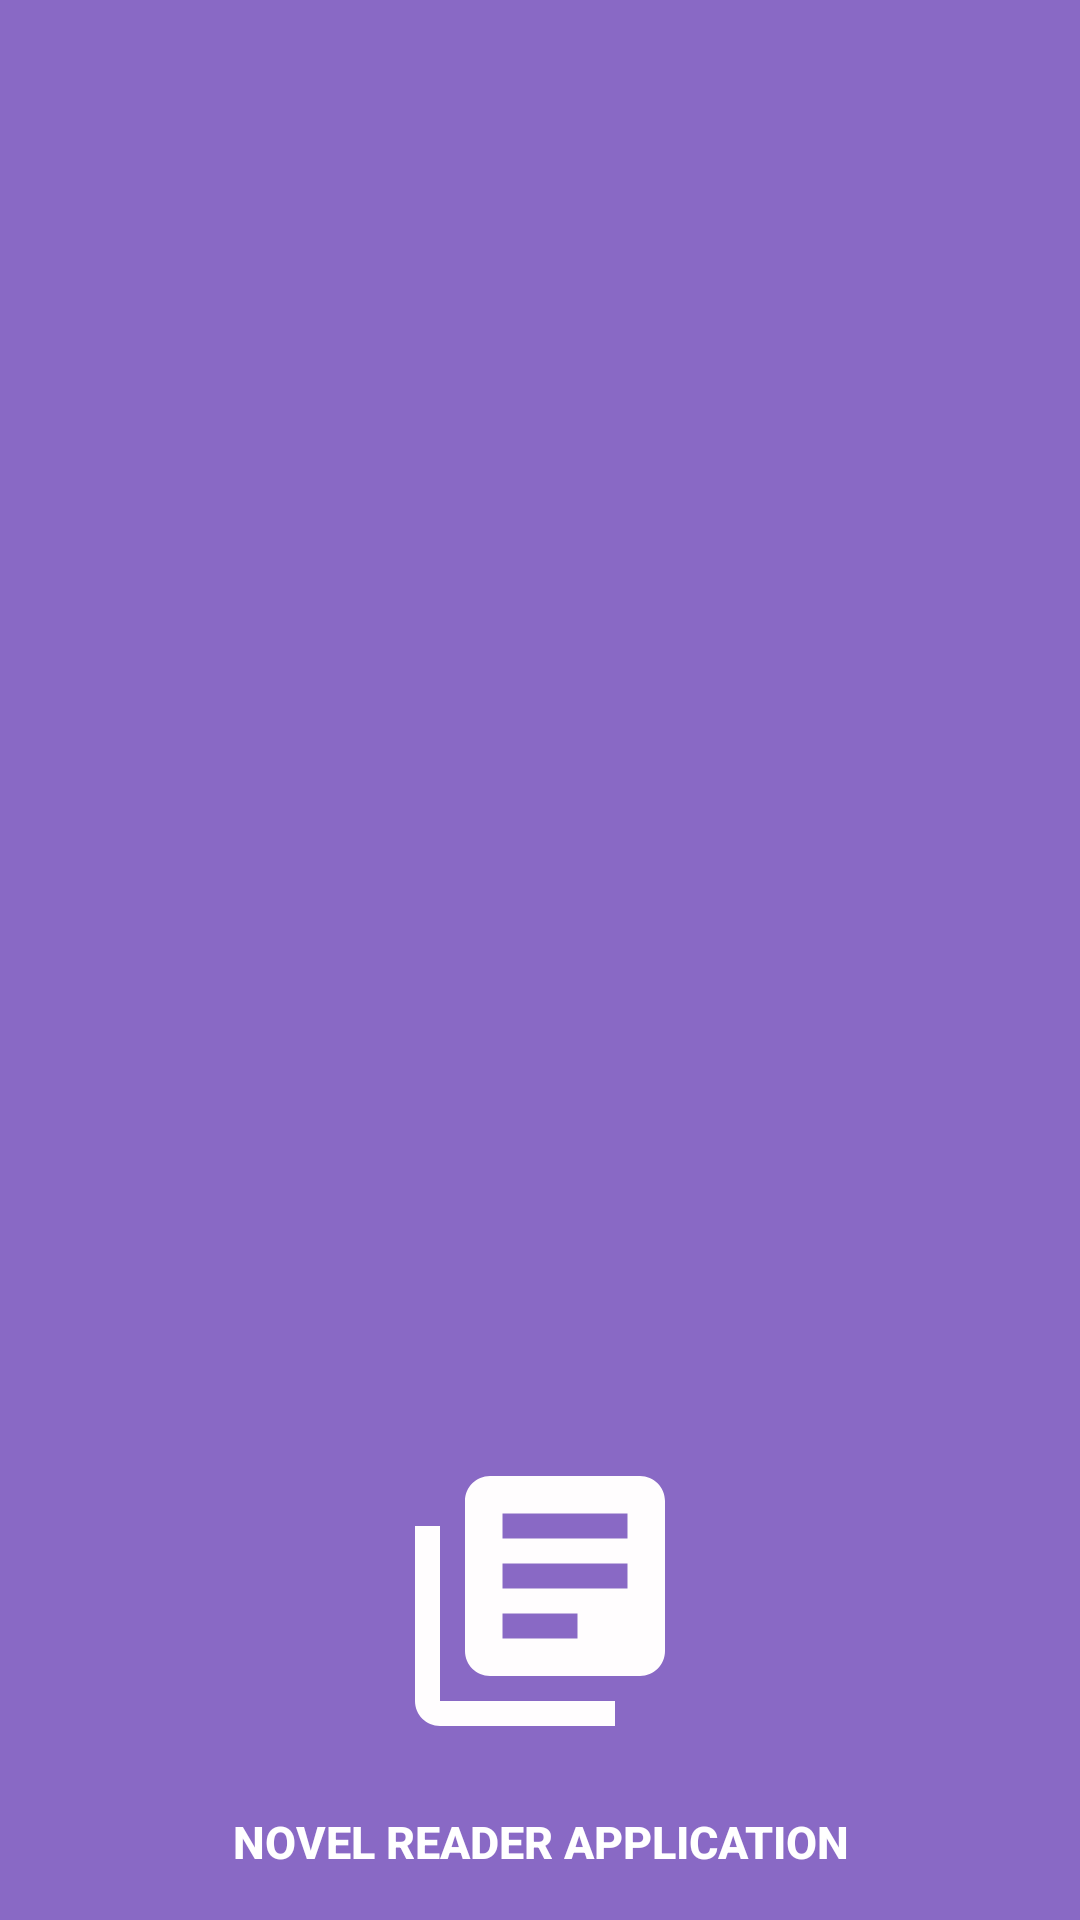

Screen size 1080 × 1920. Icon name, then its box in pixels as bbox(x1, y1, x2, y2):
library books: bbox(415, 1476, 665, 1726)
